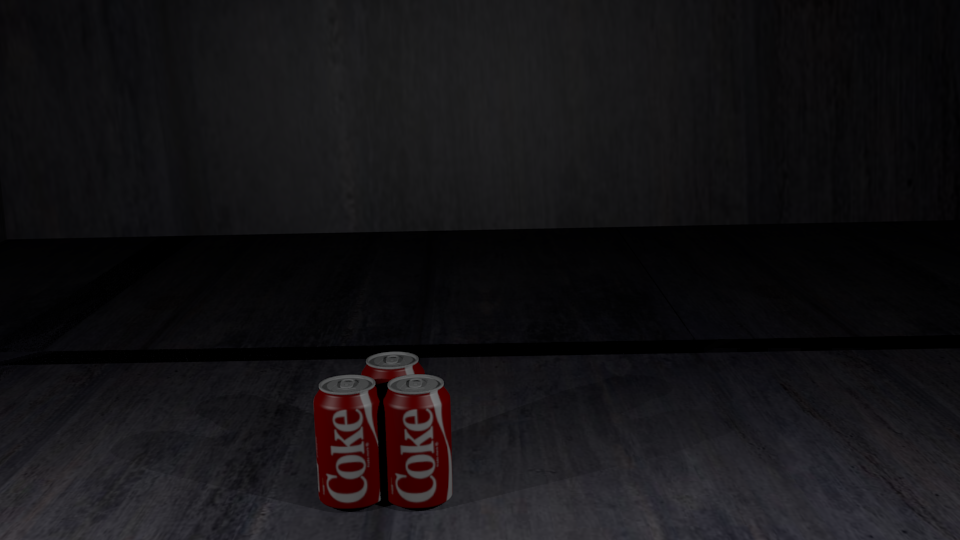cola_can: (314, 375, 383, 505), (382, 375, 451, 503), (361, 352, 424, 474)
